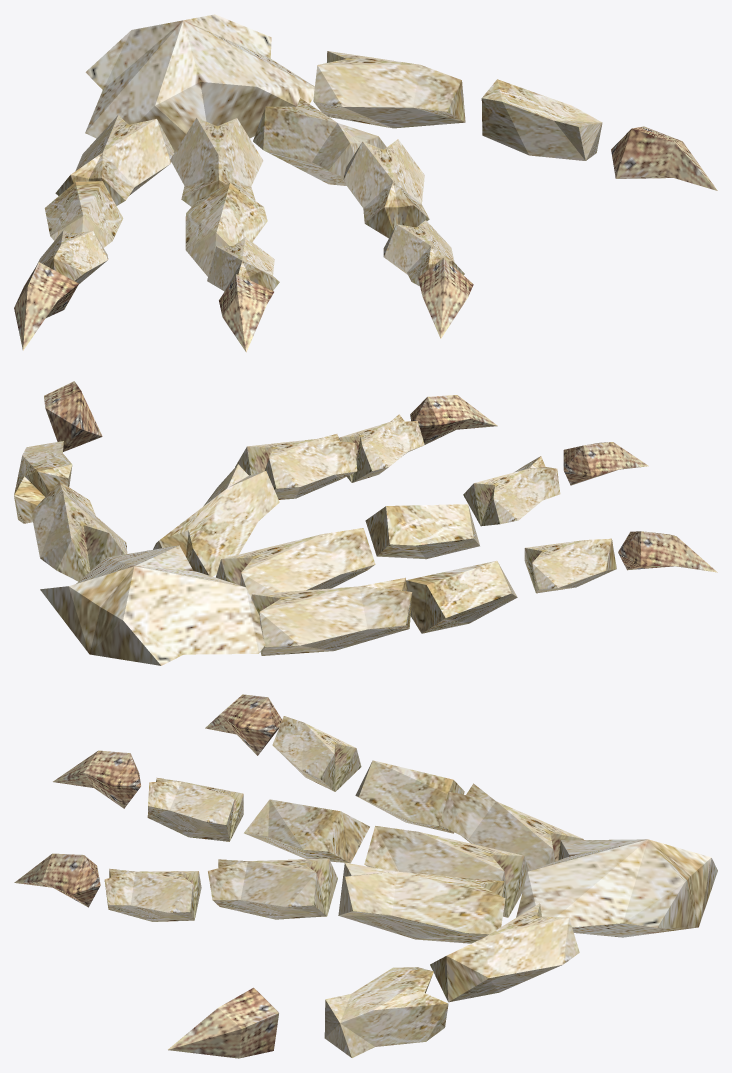
File: poi_tato_skel_krayt_foot_l0.fbx
3 views of the same model, one above another, from view 1: azimuth 30°, elevation 25°; view 2: azimuth 150°, elevation 25°; view 3: azimuth 270°, elevation 25° (orthographic). The views are drawn at different scales.
Visible parts, largest first — view 1: mesh_node; view 2: mesh_node; view 3: mesh_node.
Part boxes in pixels (left/top/right/bottom): mesh_node: left=14, top=14, right=717, bottom=352; mesh_node: left=14, top=381, right=717, bottom=665; mesh_node: left=14, top=694, right=717, bottom=1058.
Bounding box in the file's own units: 2.97 × 0.4356 × 2.67.
2 materials, 2 textured.
